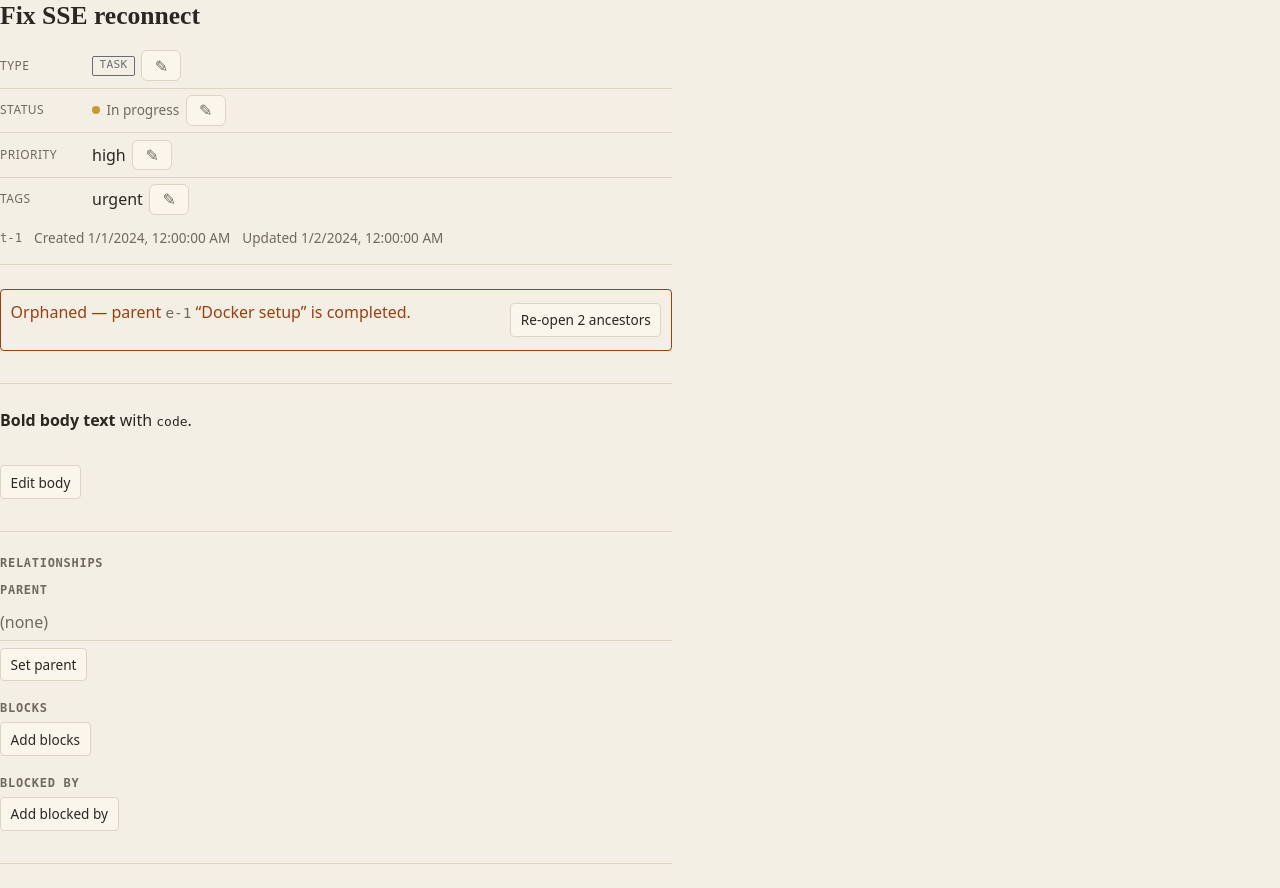
orphan warning › lists every ancestor and its target status in the confirm dialog
Step 1. Click the button "Re-open 2 ancestors" → click(586, 320), box [510, 303, 661, 337]
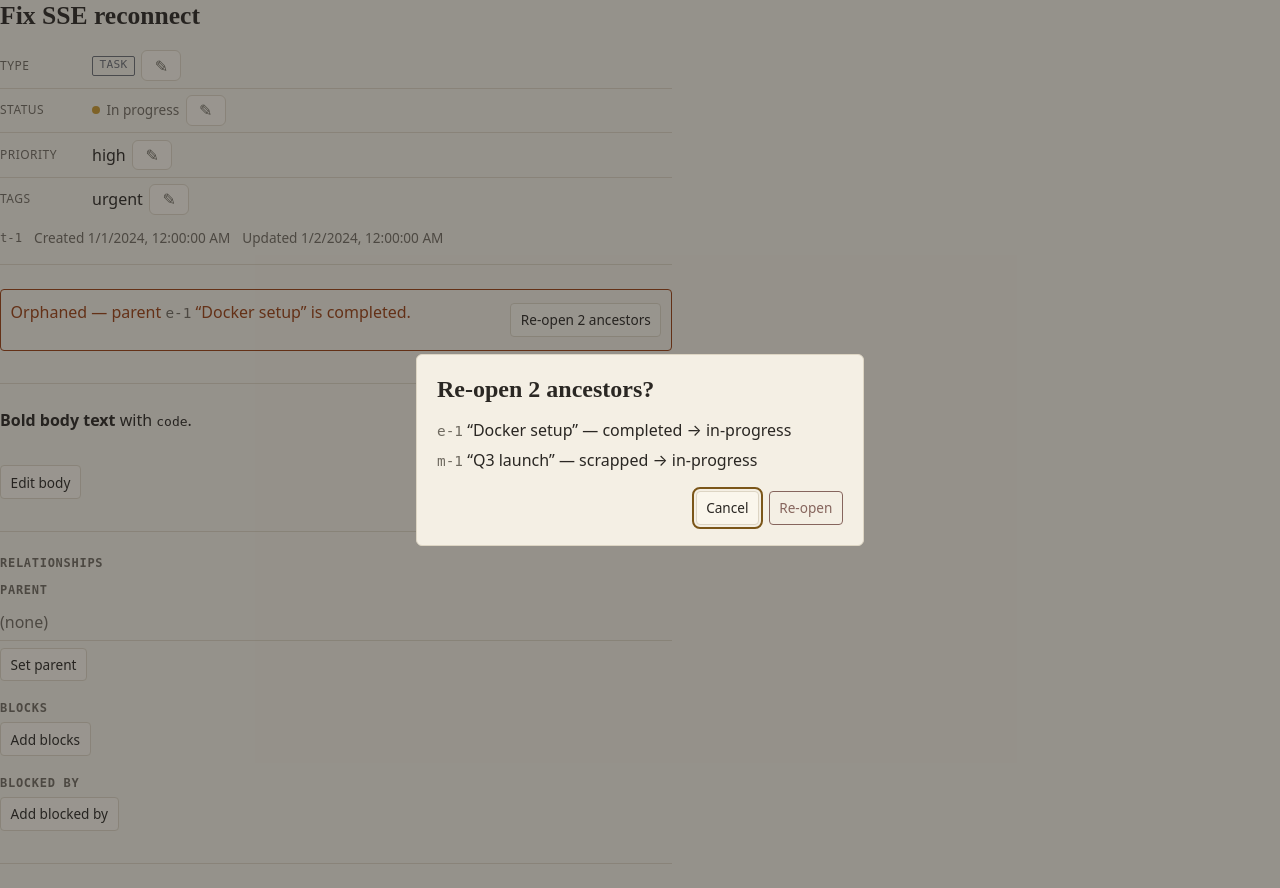
Expected: the text "e-1" is shown, [437, 424, 463, 440]
Expected: the text "m-1" is shown, [437, 453, 463, 469]
Expected: the list item "e-1 “Docker setup” — completed → in-progress" is shown, [437, 416, 843, 446]
